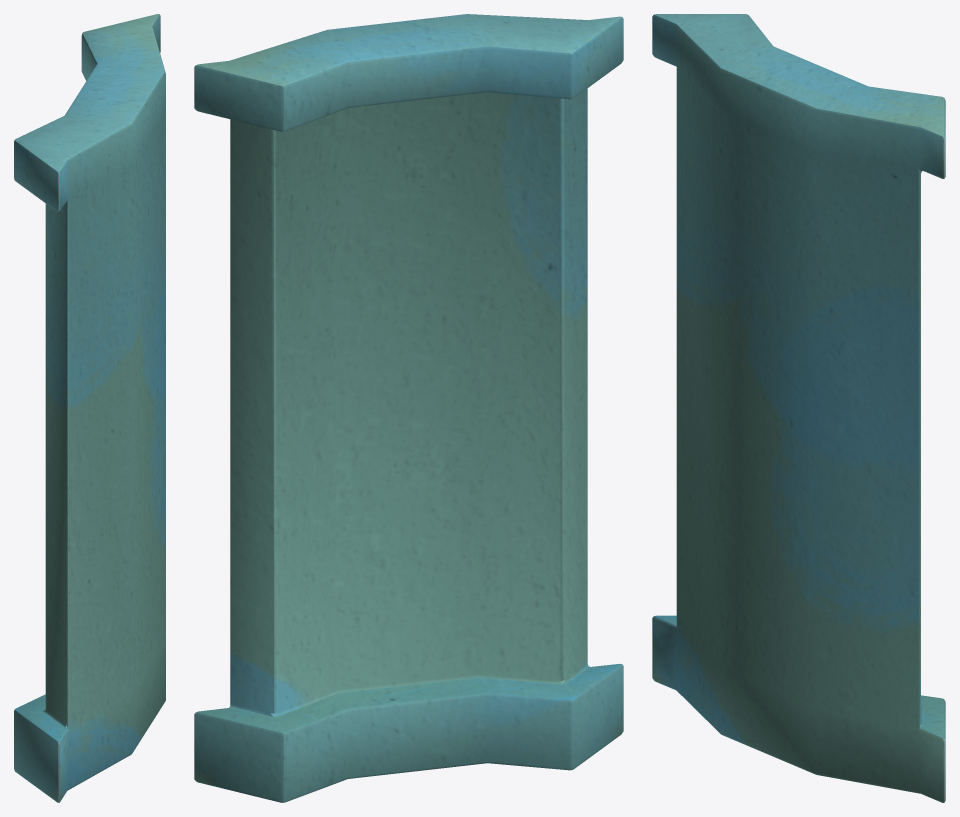
The model's file is TOMB_PILLAR_ANGLE_001.obj.
The picture shows the model from 3 angles, left to right: view 1: azimuth 30°, elevation 25°; view 2: azimuth 150°, elevation 25°; view 3: azimuth 270°, elevation 25°; orthographic projection. The views are drawn at different scales.
Visible parts, largest first — view 1: TOMB_PILLAR_ANGLE_001; view 2: TOMB_PILLAR_ANGLE_001; view 3: TOMB_PILLAR_ANGLE_001.
Part boxes in pixels (x1,y1,x2,y2): TOMB_PILLAR_ANGLE_001: [14, 14, 165, 802]; TOMB_PILLAR_ANGLE_001: [194, 14, 623, 802]; TOMB_PILLAR_ANGLE_001: [652, 14, 945, 802].
Bounding box in the file's own units: 1.19 × 3 × 1.19.
2 materials, 2 textured.
